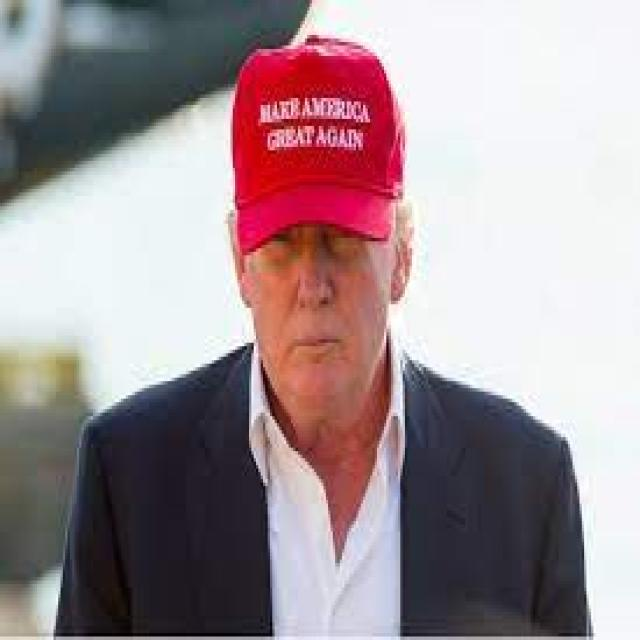cap: (212, 28, 416, 343)
